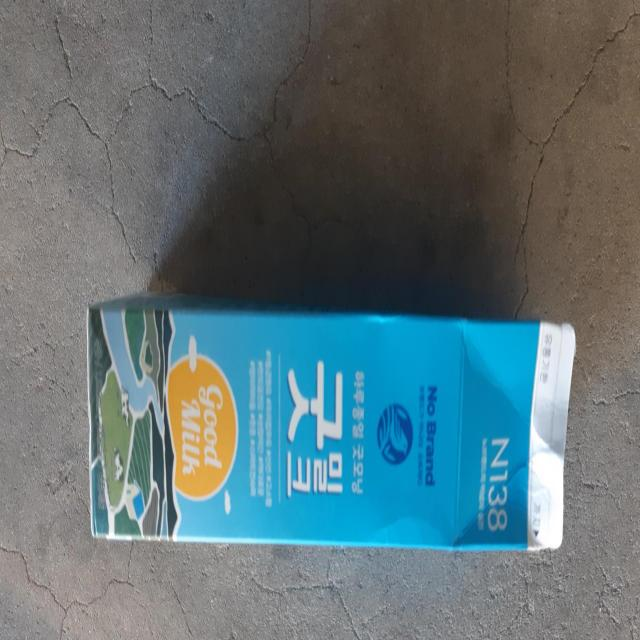paperpack: (87, 295, 576, 551)
